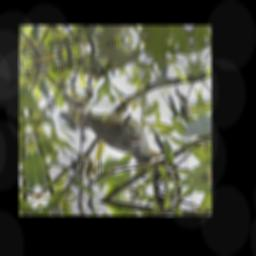Cuckoo: (45, 49, 166, 185)
